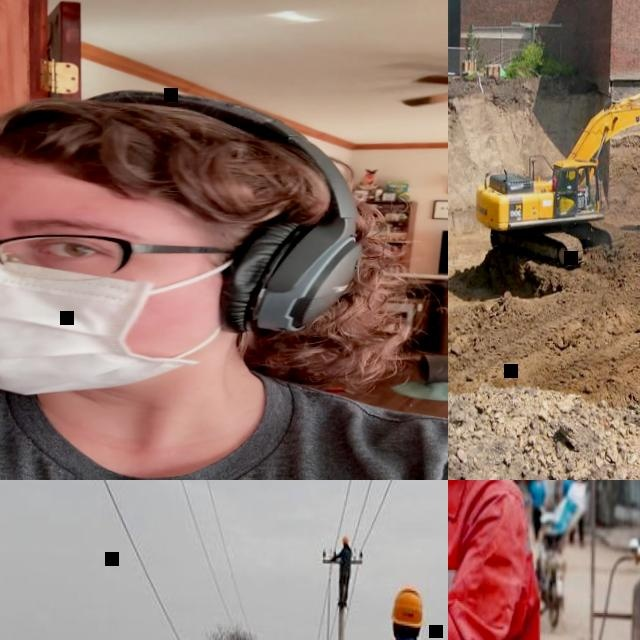Hardhat: (389, 585, 427, 629), (341, 536, 349, 545)
Mask: (0, 250, 248, 404)
NO-Hardhat: (0, 88, 329, 225)
NO-Safety Vest: (0, 378, 448, 480), (528, 480, 545, 538), (573, 483, 586, 504), (532, 485, 544, 507), (544, 480, 557, 499), (340, 547, 350, 569), (563, 480, 572, 496)
Person: (0, 78, 448, 480), (448, 480, 562, 640), (332, 534, 353, 610), (568, 480, 589, 548), (542, 480, 560, 510), (561, 480, 575, 500), (576, 173, 582, 193)
Safety Vest: (448, 480, 552, 640)
machinery: (471, 65, 640, 273)
